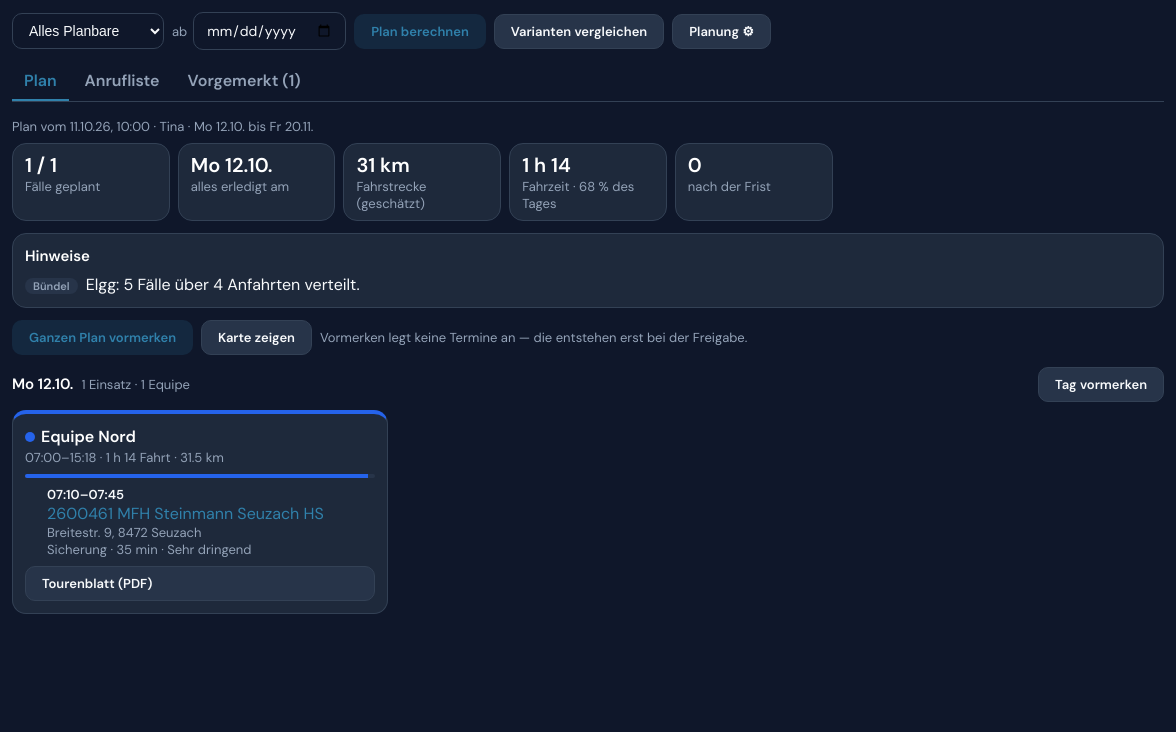
Test: DispositionScreen › Anrufliste: bestätigt schickt den Status und nimmt den Fall aus der Liste
Click the tab "Anrufliste". click: (122, 82)
box: top-left (73, 62), bottom-right (172, 101)
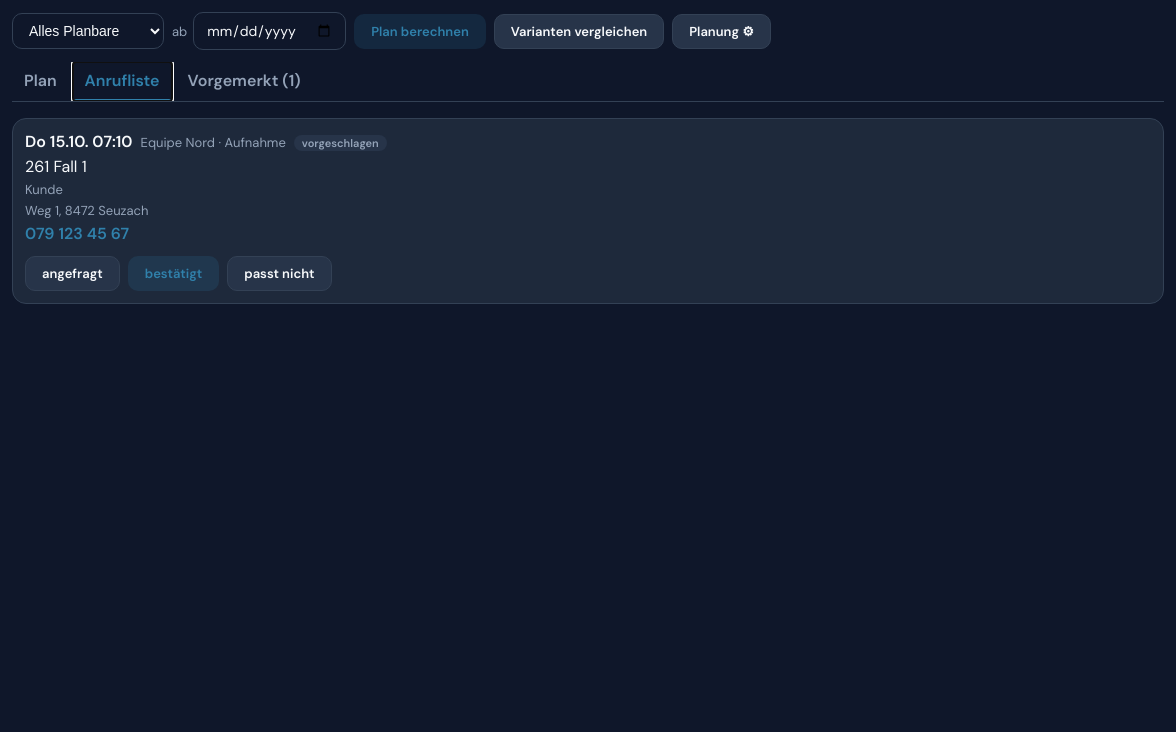
Click the button "bestätigt". click: (174, 274)
box: top-left (128, 256), bottom-right (219, 291)
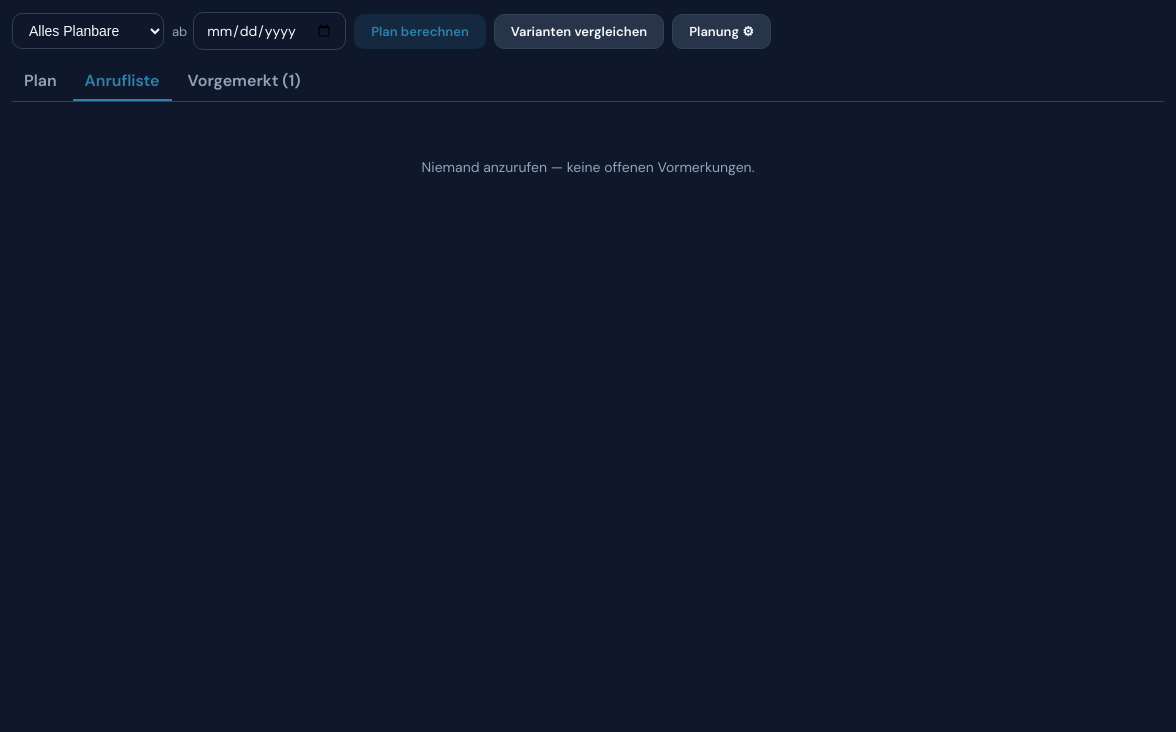
Expected: the text "261 Fall 1" is gone
